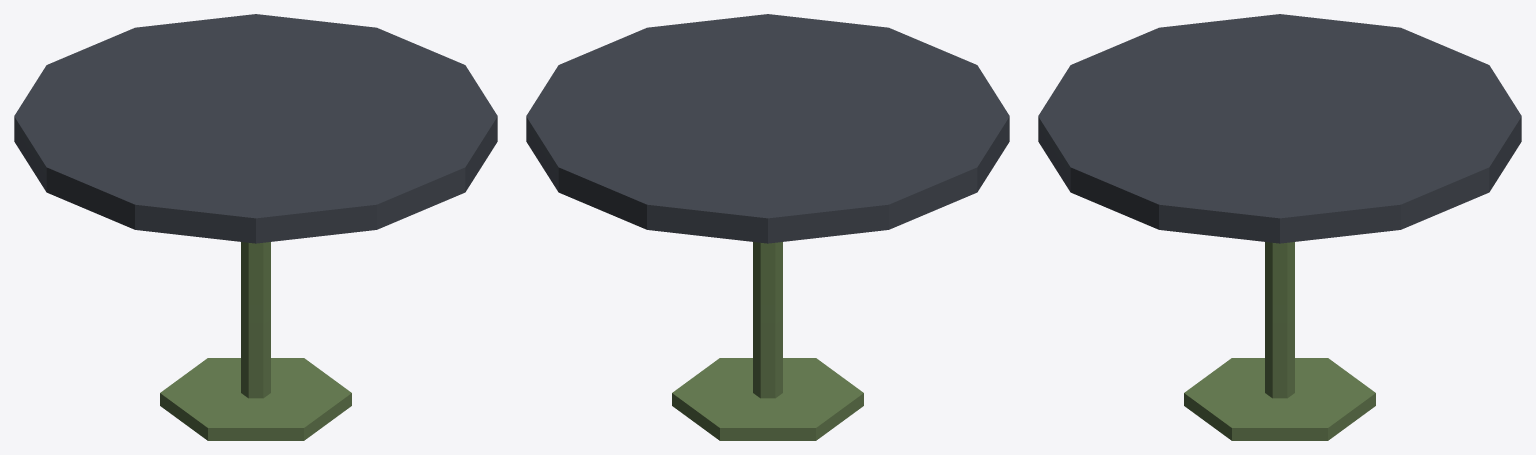
Rendered from Table_01.fbx.
3 renders of one model, left to right at view 1: azimuth 30°, elevation 25°; view 2: azimuth 150°, elevation 25°; view 3: azimuth 270°, elevation 25°, orthographic.
Parts seen in each view (by area): view 1: Table_01; view 2: Table_01; view 3: Table_01.
Part boxes in pixels (x1,y1,x2,y2): Table_01: (14, 14, 497, 440); Table_01: (526, 14, 1009, 440); Table_01: (1038, 14, 1521, 440).
Bounding box in the file's own units: 1.25 × 0.8285 × 1.25.
